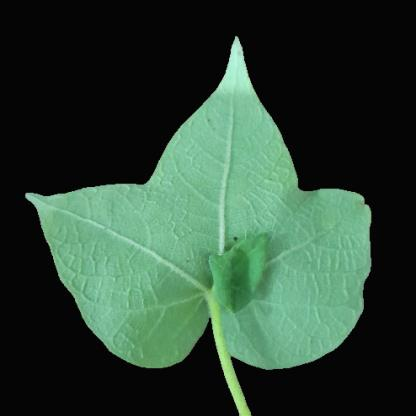curl_stage2: (295, 205, 369, 333), (70, 215, 158, 308), (184, 120, 274, 190), (91, 309, 185, 363)
leaf_enation: (168, 191, 288, 331), (193, 218, 281, 328)
